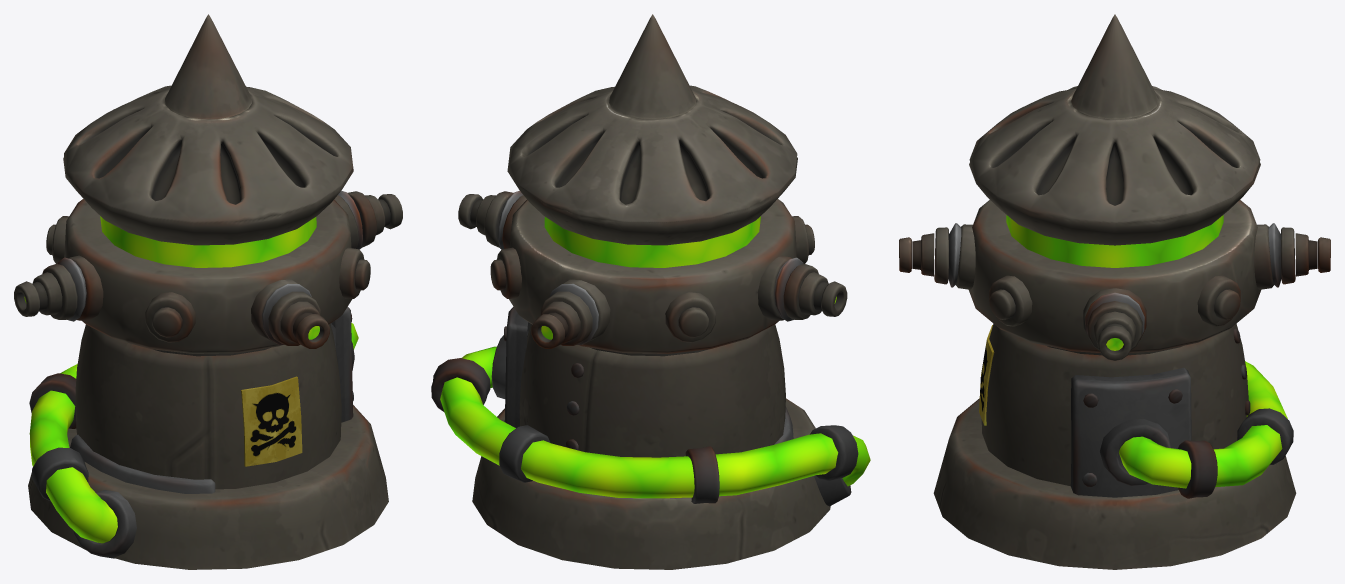
File: SM_TowerDefense_Venom_Lv2.fbx
3 views of the same model, side by side, from view 1: azimuth 30°, elevation 25°; view 2: azimuth 150°, elevation 25°; view 3: azimuth 270°, elevation 25° (orthographic).
Visible parts, largest first — view 1: SM_TowerDefense_Venom_Lv2; view 2: SM_TowerDefense_Venom_Lv2; view 3: SM_TowerDefense_Venom_Lv2.
Boxes of the visible parts, x1,y1,x2,y2 form: SM_TowerDefense_Venom_Lv2: [14, 14, 402, 569]; SM_TowerDefense_Venom_Lv2: [431, 14, 870, 569]; SM_TowerDefense_Venom_Lv2: [899, 14, 1330, 569].
Bounding box in the file's own units: 1325 × 1630 × 1323.
